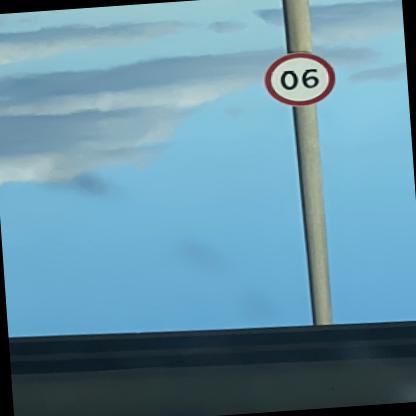speedlimit: (266, 52, 342, 111)
